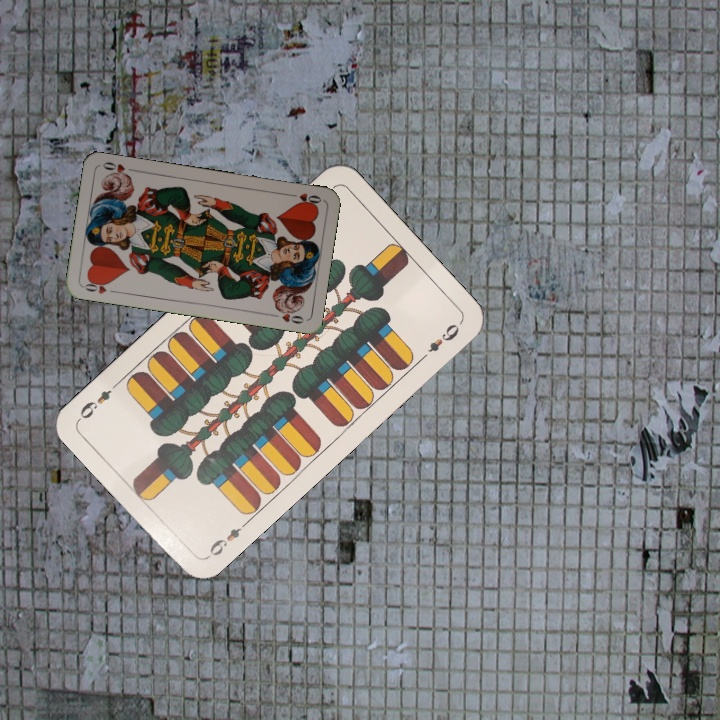E9: (202, 517, 251, 561)
HO: (79, 276, 120, 296), (284, 189, 324, 208)
